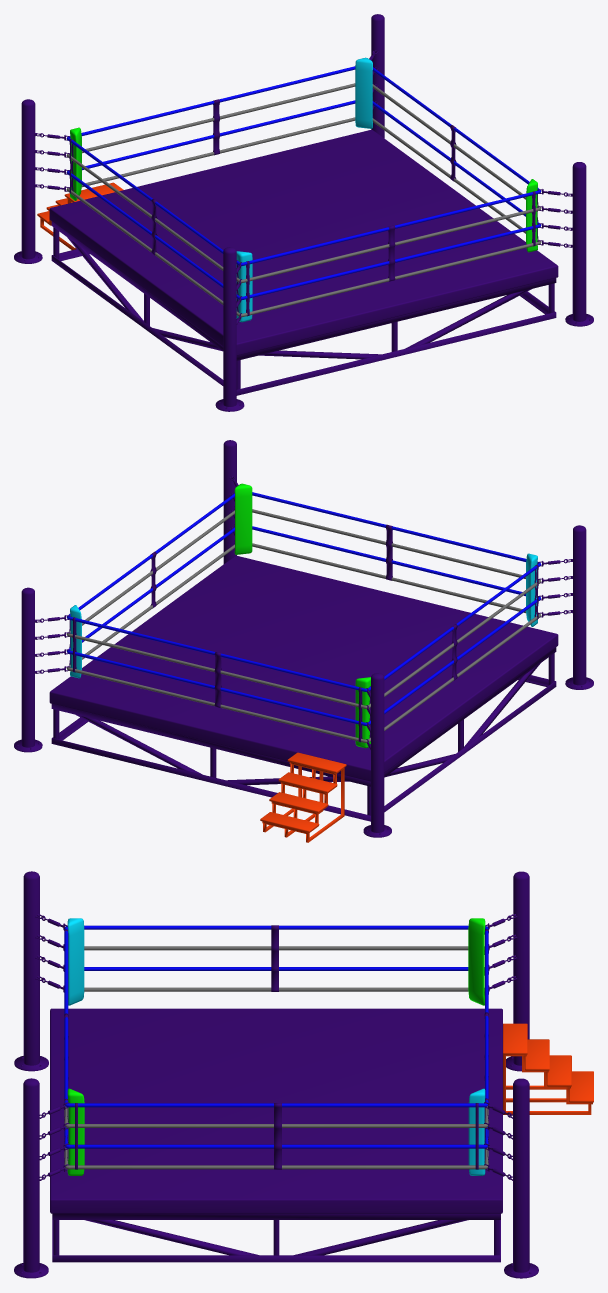
File: Boxing_Ring_With_Stairs.FBX
3 views of the same model, one above another, from view 1: azimuth 30°, elevation 25°; view 2: azimuth 150°, elevation 25°; view 3: azimuth 270°, elevation 25° (orthographic). The views are drawn at different scales.
Visible parts, largest first — view 1: Ring, Stairs; view 2: Ring, Stairs; view 3: Ring, Stairs.
Boxes of the visible parts, left/top/right/bottom form: Ring: left=14, top=14, right=593, bottom=411; Stairs: left=37, top=182, right=123, bottom=250; Ring: left=14, top=440, right=593, bottom=837; Stairs: left=260, top=752, right=346, bottom=842; Ring: left=14, top=871, right=538, bottom=1278; Stairs: left=503, top=1023, right=593, bottom=1114.
Bounding box in the file's own units: 707 × 284 × 781.
